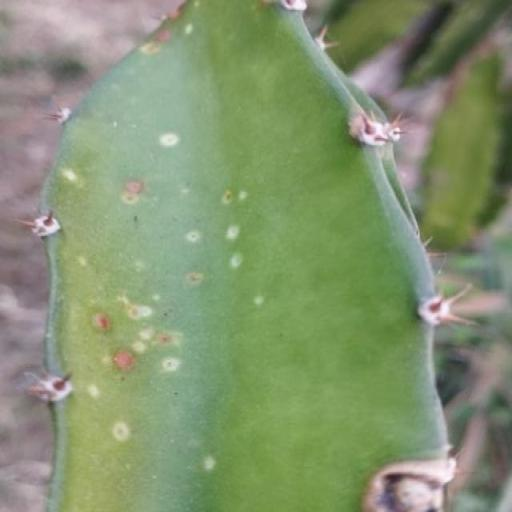stemcanker: (192, 419, 210, 468), (228, 468, 246, 512), (368, 291, 385, 333), (267, 356, 285, 394), (368, 453, 385, 490), (230, 295, 248, 329), (323, 377, 337, 419), (244, 362, 258, 404), (266, 235, 284, 267), (248, 284, 266, 315), (309, 389, 321, 434), (209, 288, 225, 313), (215, 316, 228, 344), (287, 427, 299, 453), (128, 416, 138, 441)
